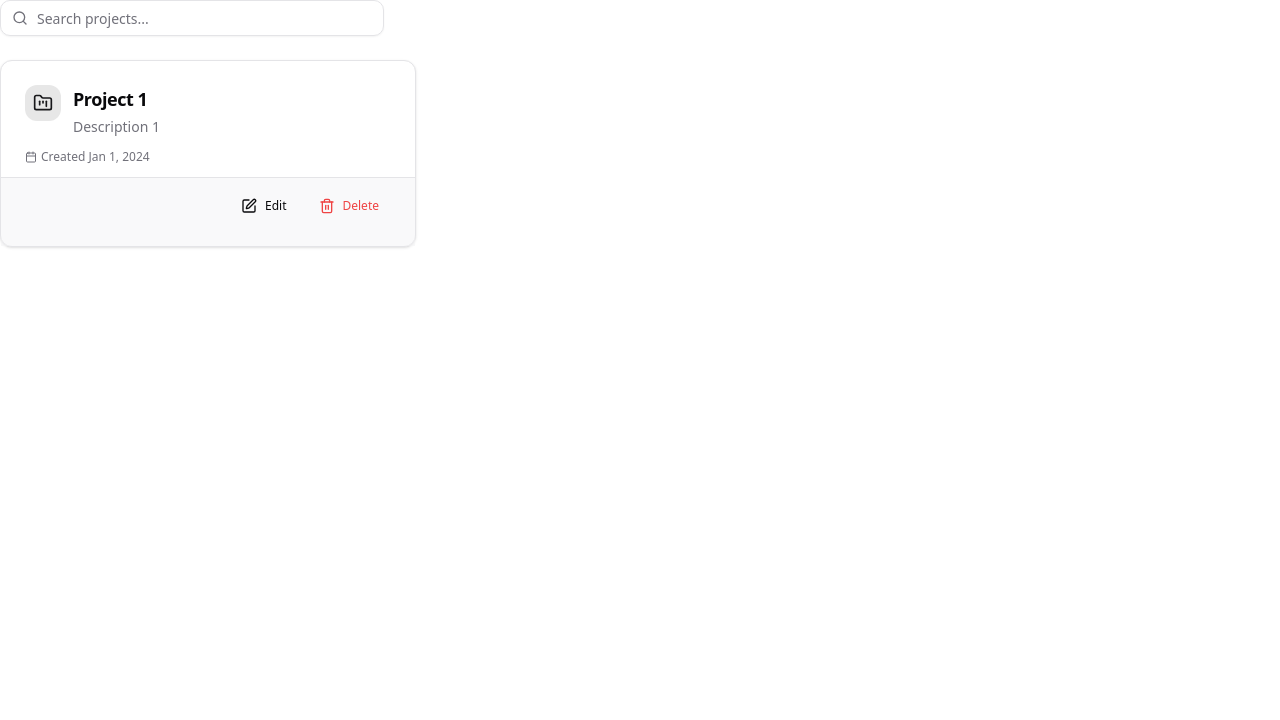
ProjectList › opens delete dialog when delete is clicked
Click the button "Delete" at {"x": 349, "y": 206}, box x1=306 y1=190 x2=391 y2=222
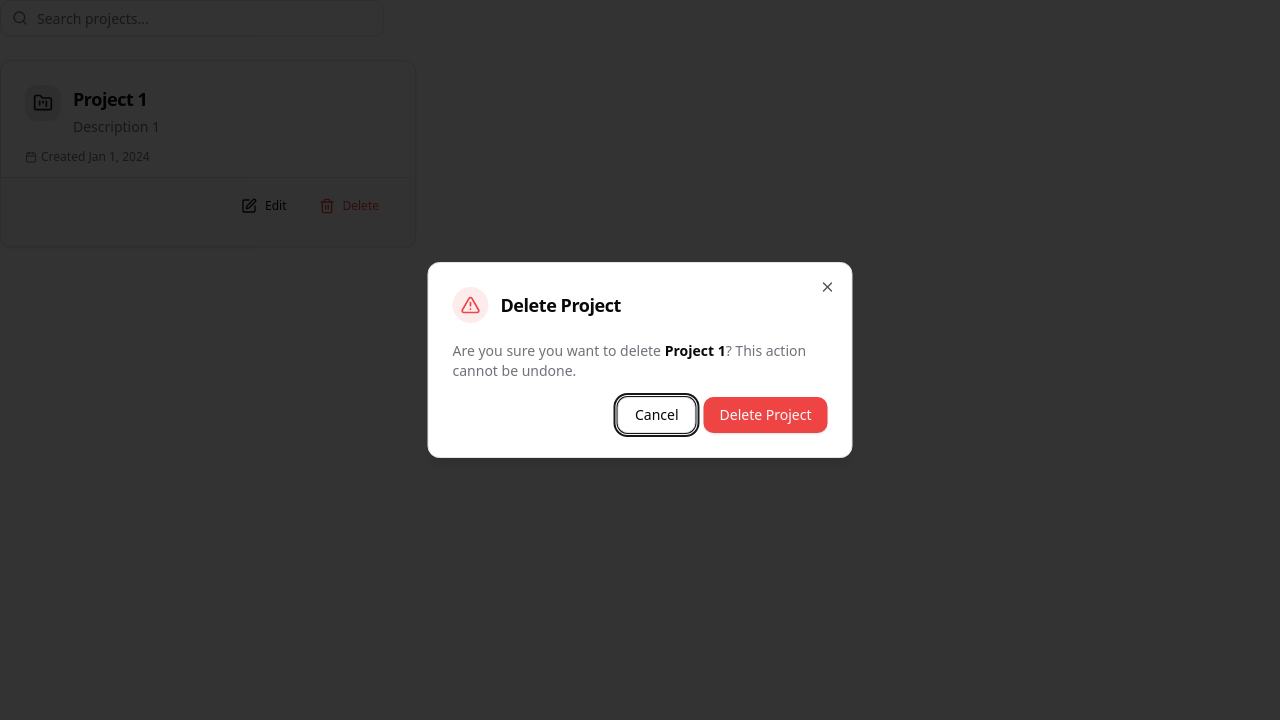
Now the dialog is shown, box x1=428 y1=262 x2=852 y2=458
Now the heading "Delete Project" is shown, box x1=500 y1=296 x2=621 y2=314
